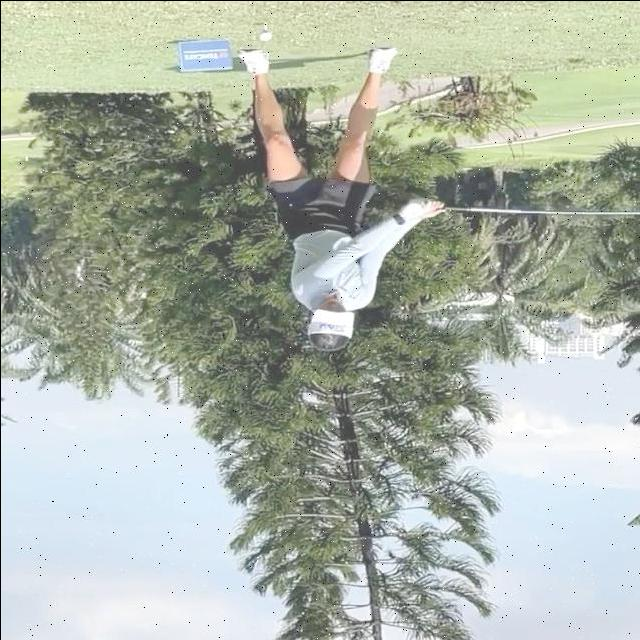golf club-handle: (429, 198, 640, 219)
